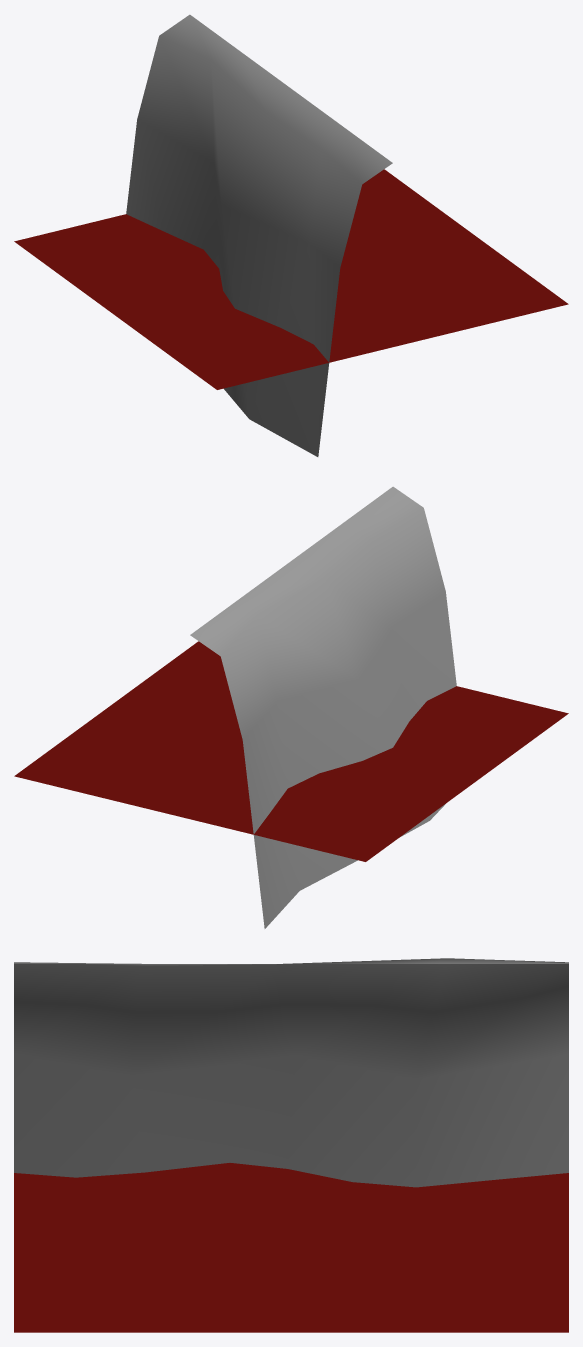
File: wall_straight_1_1x.FBX
3 renders of one model, top to bottom at view 1: azimuth 30°, elevation 25°; view 2: azimuth 150°, elevation 25°; view 3: azimuth 270°, elevation 25°, orthographic. The views are drawn at different scales.
Visible parts, largest first — view 1: Box002, Plane001; view 2: Box002, Plane001; view 3: Box002, Plane001.
Part boxes in pixels (x1,y1,x2,y2): Box002: (126,14,392,456); Plane001: (14,169,568,389); Box002: (190,486,456,928); Plane001: (14,641,568,861); Box002: (14,958,568,1187); Plane001: (14,1163,568,1332).
Bounding box in the file's own units: 80 × 61.54 × 80.
